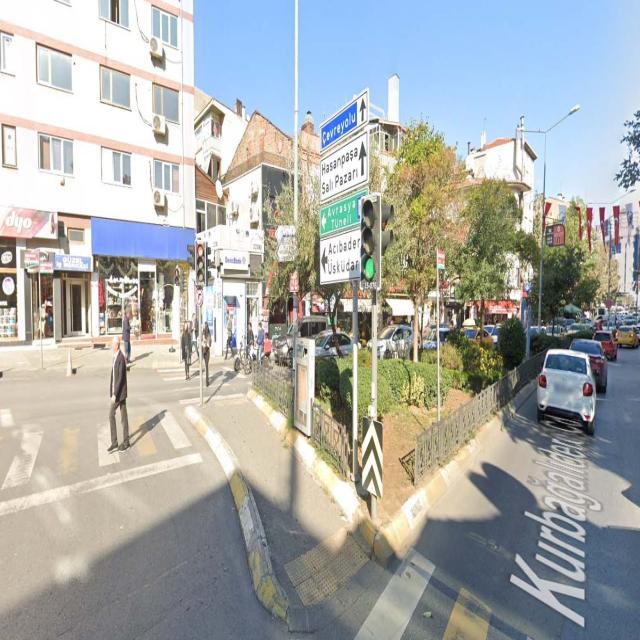kirmizi: (195, 238, 204, 284)
sagadonulmez: (195, 286, 203, 306)
yesil: (361, 192, 380, 286)
